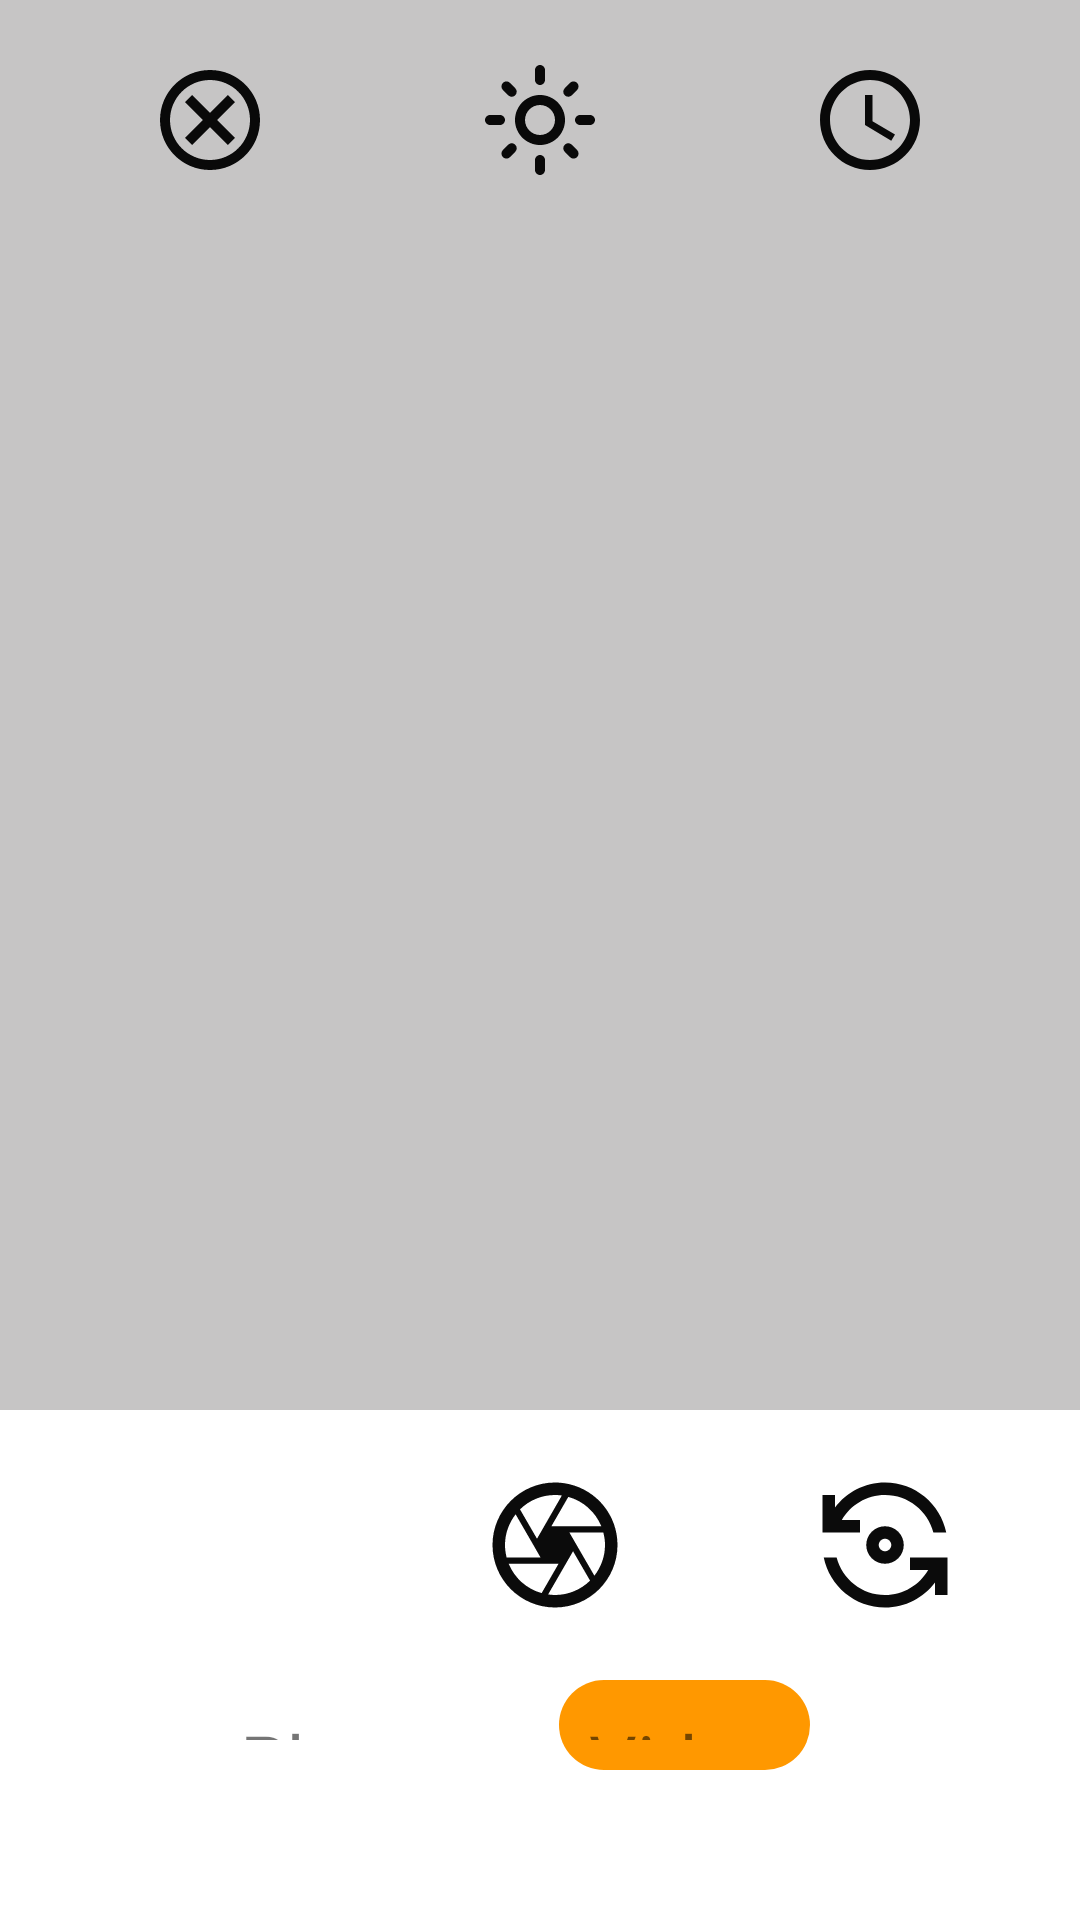

Where icons sit on this 1080×1920 app screen, as (left=x1, top=y1, right=x2, bottom=y2):
accesstime: (left=820, top=70, right=920, bottom=170)
cameraclick: (left=492, top=1482, right=618, bottom=1608)
cameraflip: (left=822, top=1482, right=948, bottom=1608)
cross: (left=160, top=70, right=260, bottom=170)
lightmode: (left=485, top=65, right=595, bottom=175)
